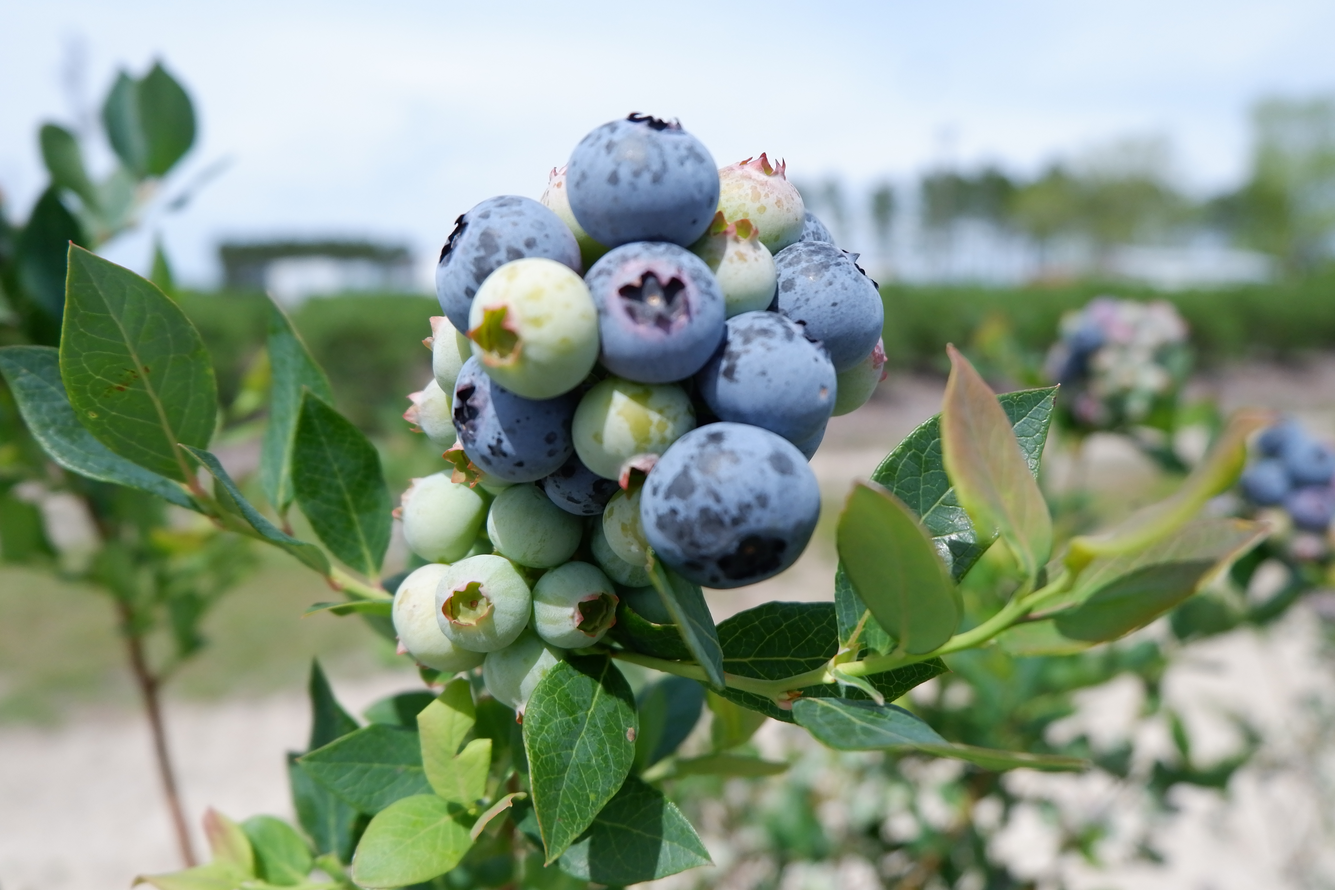Immature: (469, 262, 596, 395), (575, 379, 693, 490), (686, 210, 776, 320), (438, 558, 528, 652), (538, 165, 617, 272), (395, 567, 477, 670), (720, 154, 800, 249), (395, 476, 482, 563), (491, 486, 581, 565), (534, 563, 614, 649), (486, 625, 558, 710), (442, 439, 538, 488), (589, 521, 649, 587), (834, 342, 887, 415), (603, 489, 650, 561), (428, 316, 472, 388), (408, 381, 456, 446)
Mature: (642, 426, 819, 584), (566, 119, 716, 246), (439, 198, 578, 335), (697, 314, 836, 451), (588, 243, 720, 379), (452, 355, 578, 478), (774, 241, 882, 367), (543, 447, 617, 513), (781, 215, 832, 247)
